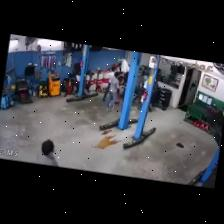person: (37, 140, 58, 166), (107, 73, 119, 111)
